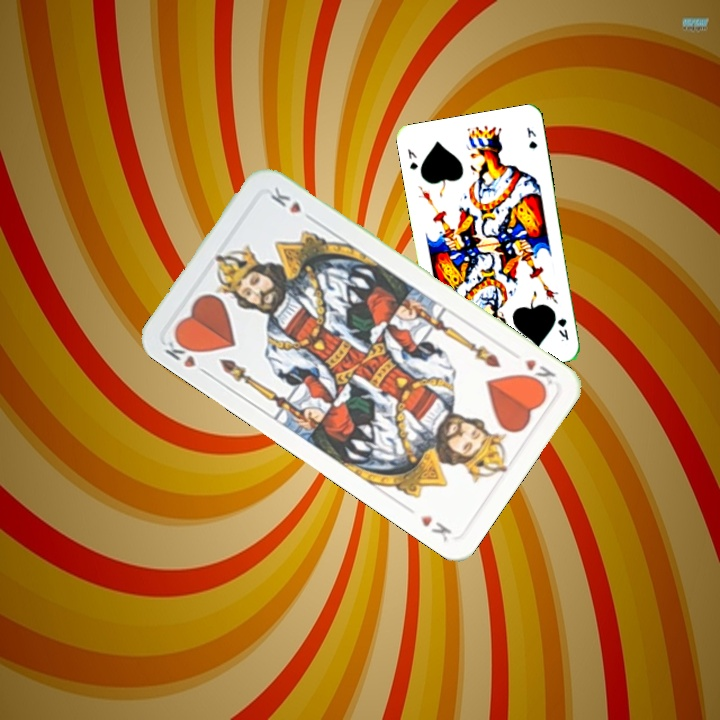GK: (553, 314, 571, 344), (403, 145, 420, 172)
HK: (161, 330, 212, 379), (518, 355, 559, 394)
